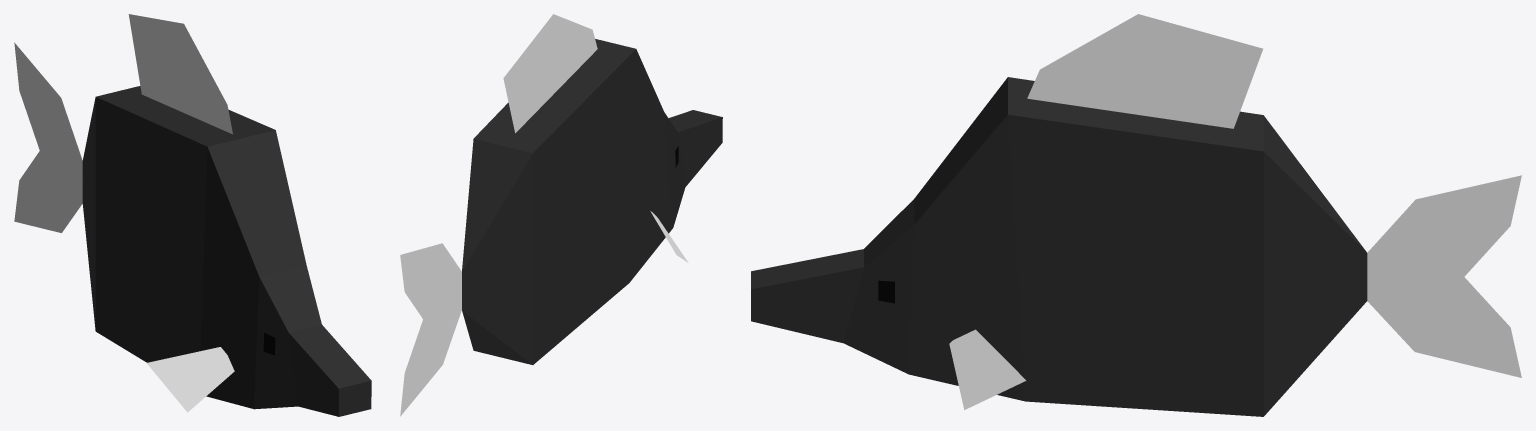
The model's file is 15fish.fbx.
3 renders of one model, left to right at view 1: azimuth 30°, elevation 25°; view 2: azimuth 150°, elevation 25°; view 3: azimuth 270°, elevation 25°, orthographic. The views are drawn at different scales.
Parts seen in each view (by area): view 1: Tropical Fish 15; view 2: Tropical Fish 15; view 3: Tropical Fish 15.
Part boxes in pixels (x1,y1,x2,y2): Tropical Fish 15: (14,14,371,416); Tropical Fish 15: (400,14,722,416); Tropical Fish 15: (751,14,1521,416).
Size of the model in its own units: 88.27 by 165 by 300.
